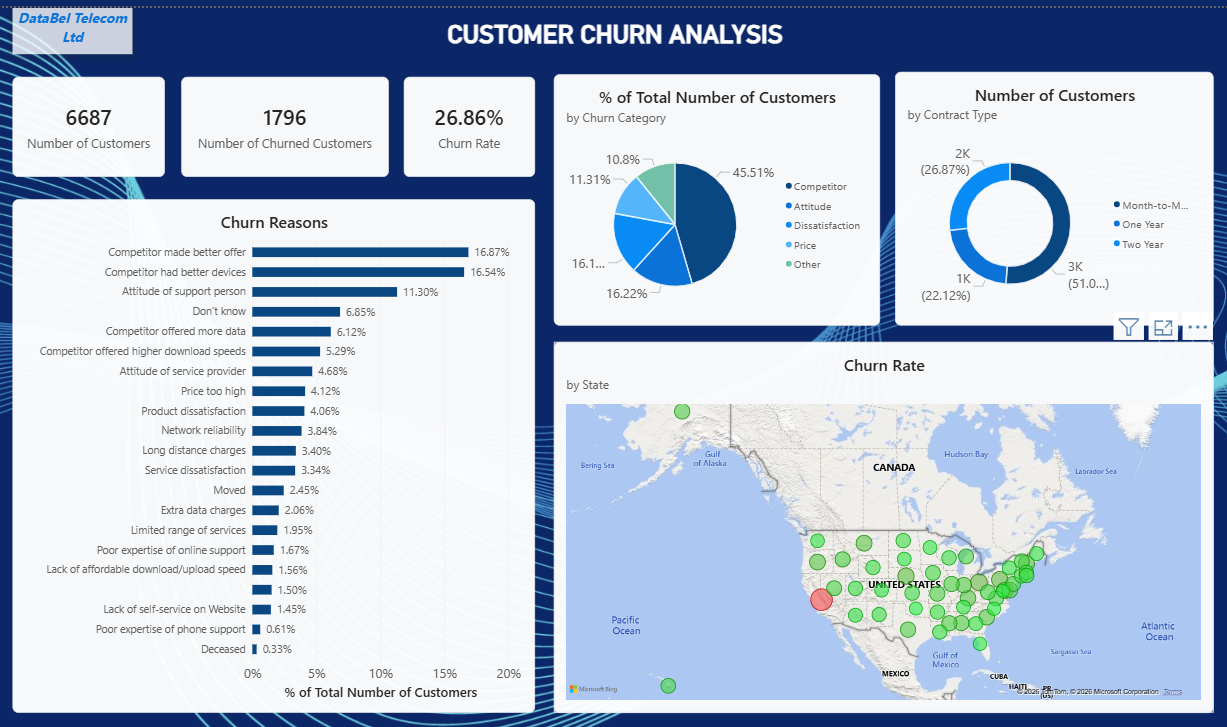

The page's visual inventory and layout, read from the dashboard file:
{"tool":"powerbi","page":{"name":"Overview","canvas":[1640,960],"ordinal":0},"visuals":[{"type":"card","fields":{"Values":["_Calculations.Number of Customers"]},"box":[16.7,91.7,203.3,133.3],"z":0},{"type":"card","fields":{"Values":["_Calculations.Churn Rate"]},"box":[538.3,91.7,175,133.3],"z":1000},{"type":"card","fields":{"Values":["_Calculations.Number of Churned Customers"]},"box":[241.7,91.7,276.7,133.3],"z":2000},{"type":"barChart","title":"Churn Reasons","fields":{"Category":["Databel.Churn Reason"],"Y":["_Calculations.Number of Churned Customers"]},"box":[16.7,255,696.7,685],"z":3000},{"type":"pieChart","title":"% of Total Number of Customers","fields":{"Category":["Databel.Churn Category"],"Y":["_Calculations.Number of Customers"]},"box":[738.3,88.3,435,335],"z":4000},{"type":"donutChart","fields":{"Series":["Databel.Contract Type"],"Y":["_Calculations.Number of Customers"]},"box":[1193.3,85,425,338.3],"z":5000},{"type":"map","fields":{"Category":["Databel.State"],"Size":["_Calculations.Churn Rate"]},"box":[738.3,445,880,495],"z":6000},{"type":"textbox","box":[255,15,1130,46.7],"z":7000},{"type":"textbox","box":[16.7,0,160,61.7],"z":8000}]}

Visuals, with their boxes in screenshot pixels (x1, y1, x2, y2), scaled from the page's 1640x960 canvas onto the 1227x727 screenshot:
card - _Calculations.Number of Customers: BBox(12, 69, 165, 170)
card - _Calculations.Churn Rate: BBox(403, 69, 534, 170)
card - _Calculations.Number of Churned Customers: BBox(181, 69, 388, 170)
"Churn Reasons" barChart: BBox(12, 193, 534, 712)
"% of Total Number of Customers" pieChart: BBox(552, 67, 878, 321)
donutChart - Databel.Contract Type x _Calculations.Number of Customers: BBox(893, 64, 1211, 321)
map - Databel.State x _Calculations.Churn Rate: BBox(552, 337, 1211, 712)
textbox: BBox(191, 11, 1036, 47)
textbox: BBox(12, 0, 132, 47)
